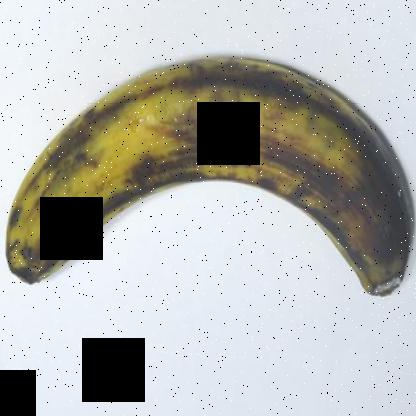overripe: (3, 19, 415, 318)
rotten: (338, 95, 415, 300)
